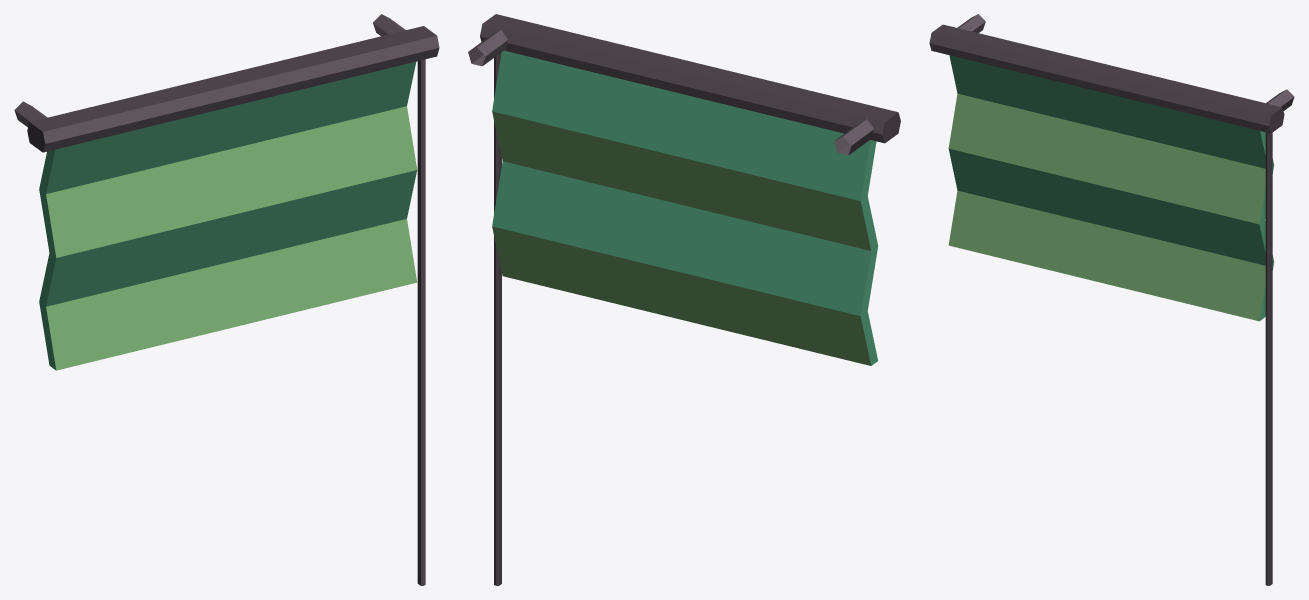
Rendered from Blinds for Small Window.fbx.
The picture shows the model from 3 angles, left to right: view 1: azimuth 30°, elevation 25°; view 2: azimuth 150°, elevation 25°; view 3: azimuth 330°, elevation 25°; orthographic projection. The views are drawn at different scales.
Parts seen in each view (by area): view 1: Blinds for Small Window; view 2: Blinds for Small Window; view 3: Blinds for Small Window.
Boxes of the visible parts, x1=… form: Blinds for Small Window: x1=14, y1=14, x2=439, y2=585; Blinds for Small Window: x1=468, y1=14, x2=900, y2=585; Blinds for Small Window: x1=929, y1=14, x2=1294, y2=585.
Bounding box in the file's own units: 232 × 310 × 40.25.
